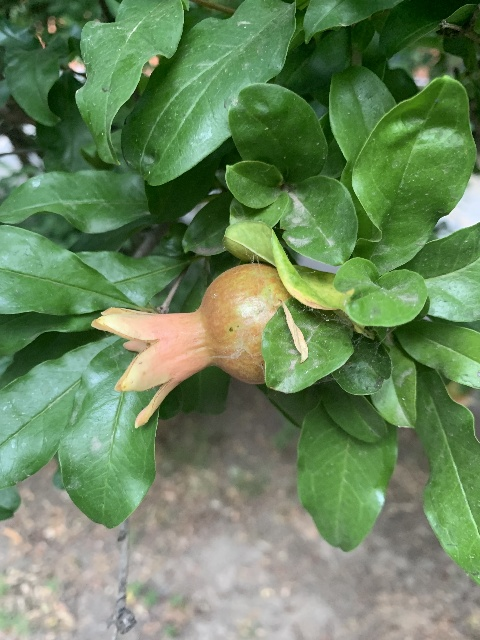early-fruit: (91, 262, 294, 429)
